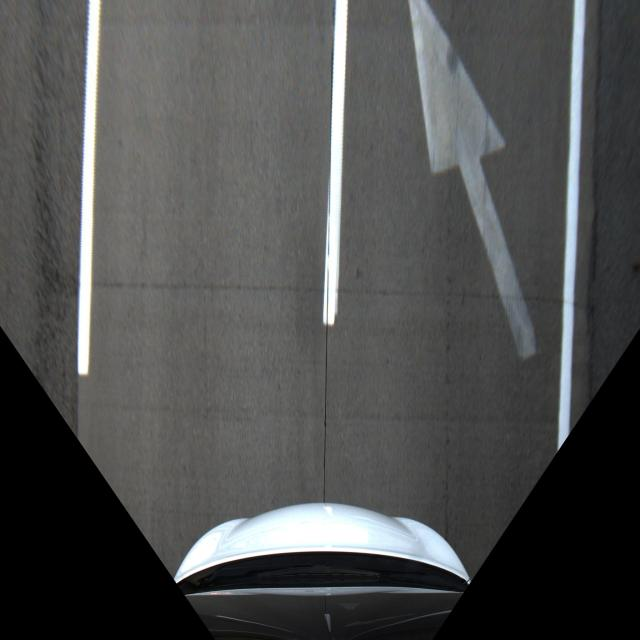chang_lane_left: (336, 0, 575, 414)
